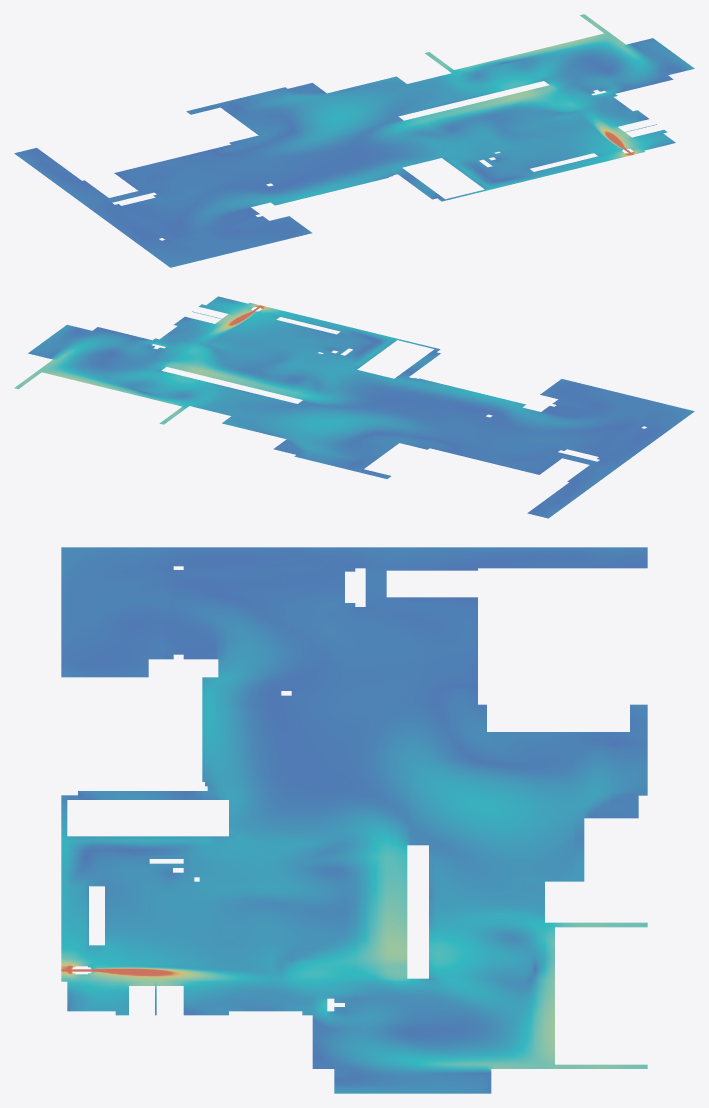
Rendered from A_velocity_z0.6.glb.
3 views of the same model, one above another, from view 1: azimuth 30°, elevation 25°; view 2: azimuth 150°, elevation 25°; view 3: azimuth 270°, elevation 25° (orthographic). The views are drawn at different scales.
Size of the model in its own units: 7.18 by 0 by 3.26.
